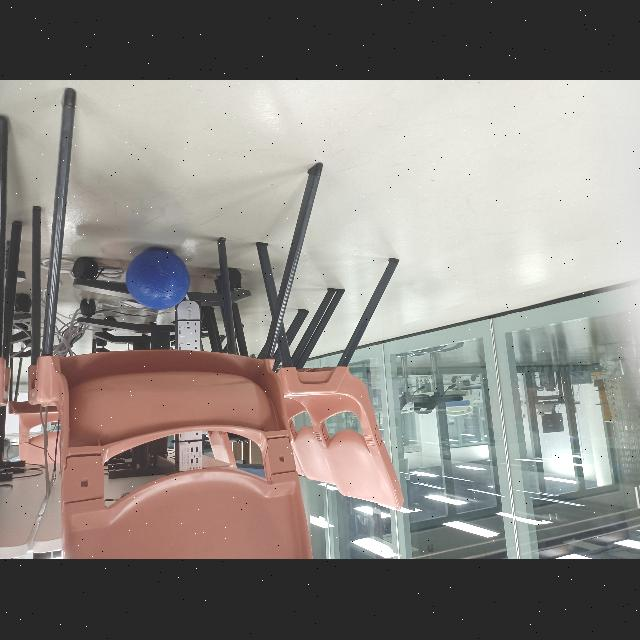B: (128, 246, 190, 310)
